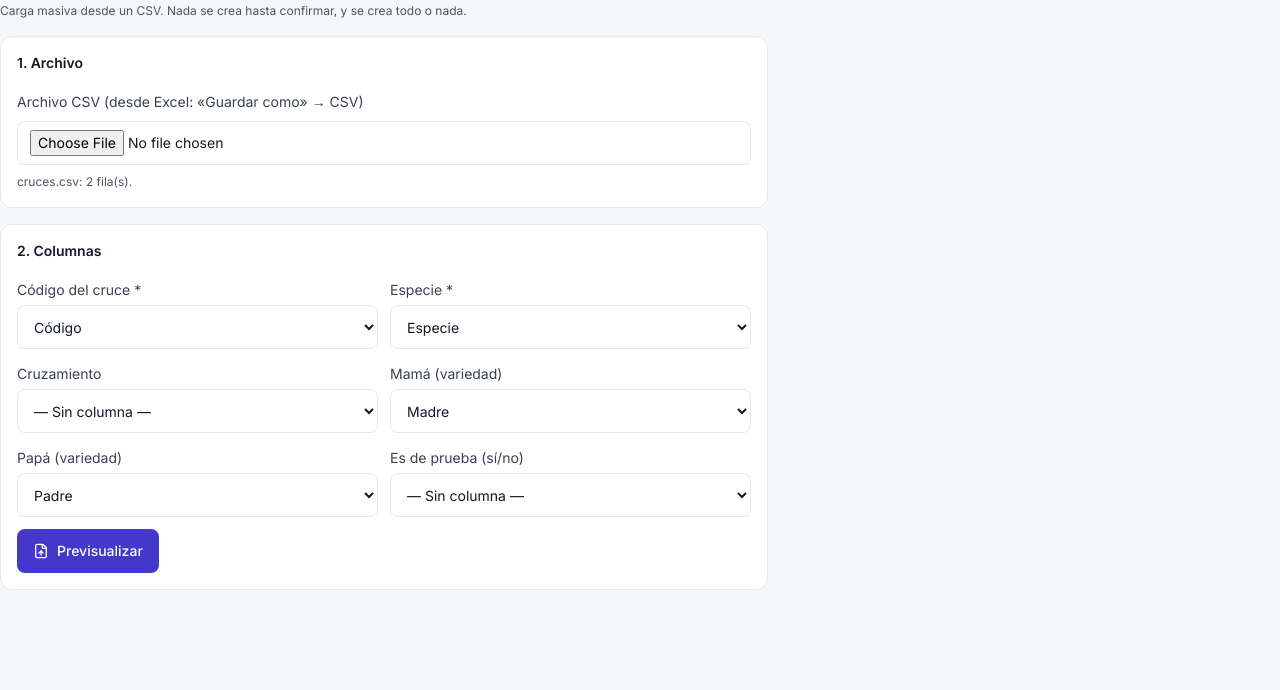
Test: ImportarCrucesPage › exige aceptar las variedades nuevas, confirma con clave de idempotencia y permite revertir
This screenshot has width=1280, height=690.
Earlier steps of the test are not shown.
Expected: the text "cruces.csv: 2 fila(s)." is shown, [17, 174, 132, 189]
Click the button "Previsualizar" at (88, 551), box [17, 529, 159, 573]
(page scrolled)
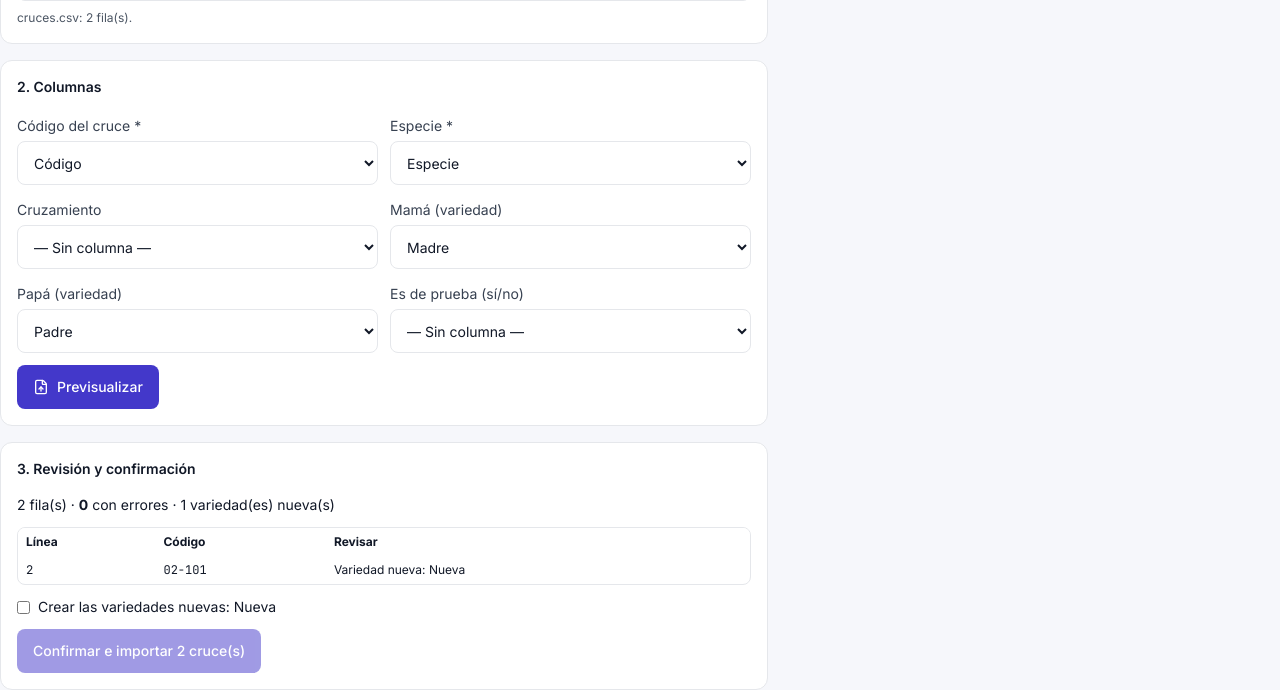
Result: the button "Confirmar e importar 2 cruce(s)" is disabled at [17, 629, 261, 673]
Click the checkbox labelled "Crear las variedades nuevas: Nueva" at (24, 608), box [17, 601, 30, 614]
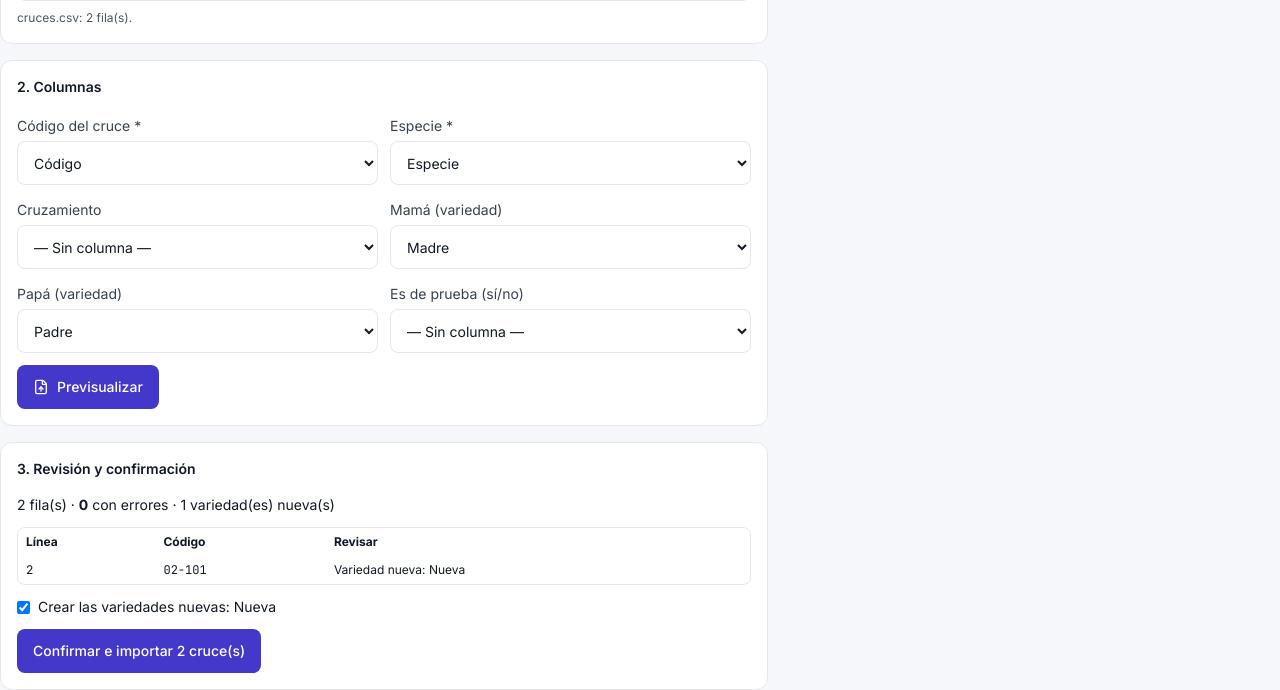
Result: the button "Confirmar e importar 2 cruce(s)" is enabled
Click the button "Confirmar e importar 2 cruce(s)" at (139, 651), box [17, 629, 261, 673]
(page scrolled)
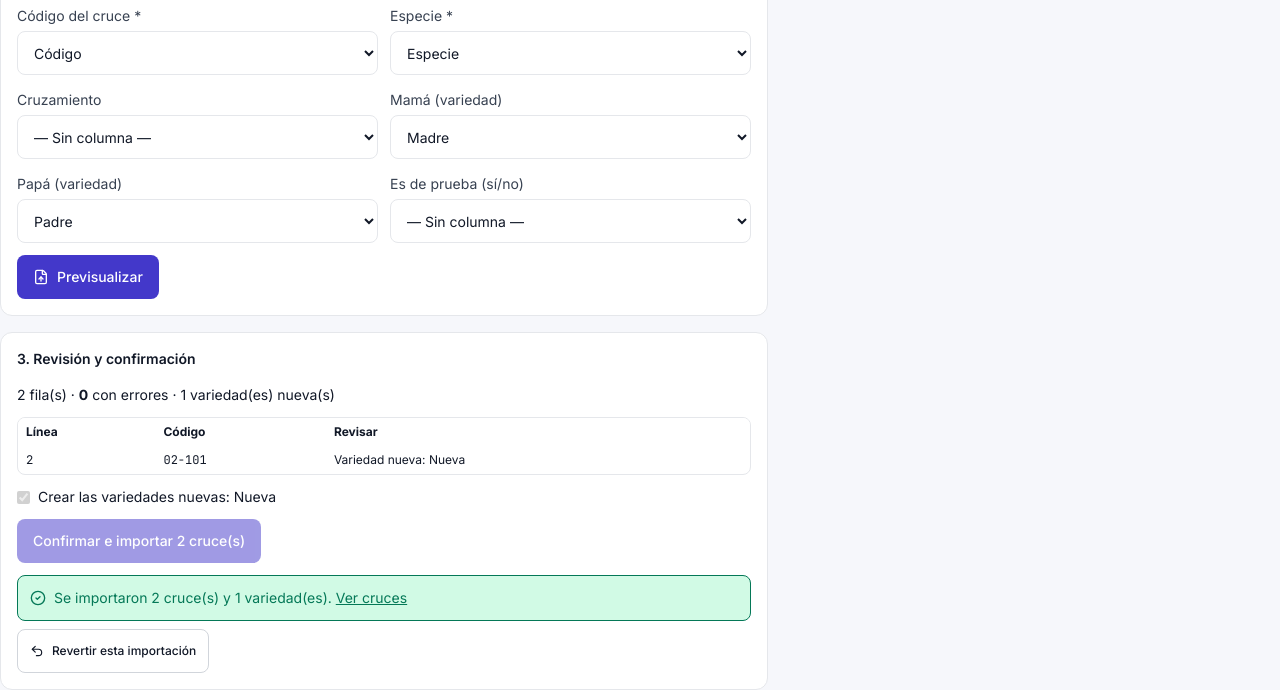
Result: the text "Variedad nueva: Nueva" is shown once at [326, 446, 750, 474]
Result: the text "Se importaron 2 cruce(s) y 1 variedad(es). Ver cruces" is shown at [54, 588, 407, 608]
Click the button "Revertir esta importación" at (113, 651), box [17, 629, 209, 673]
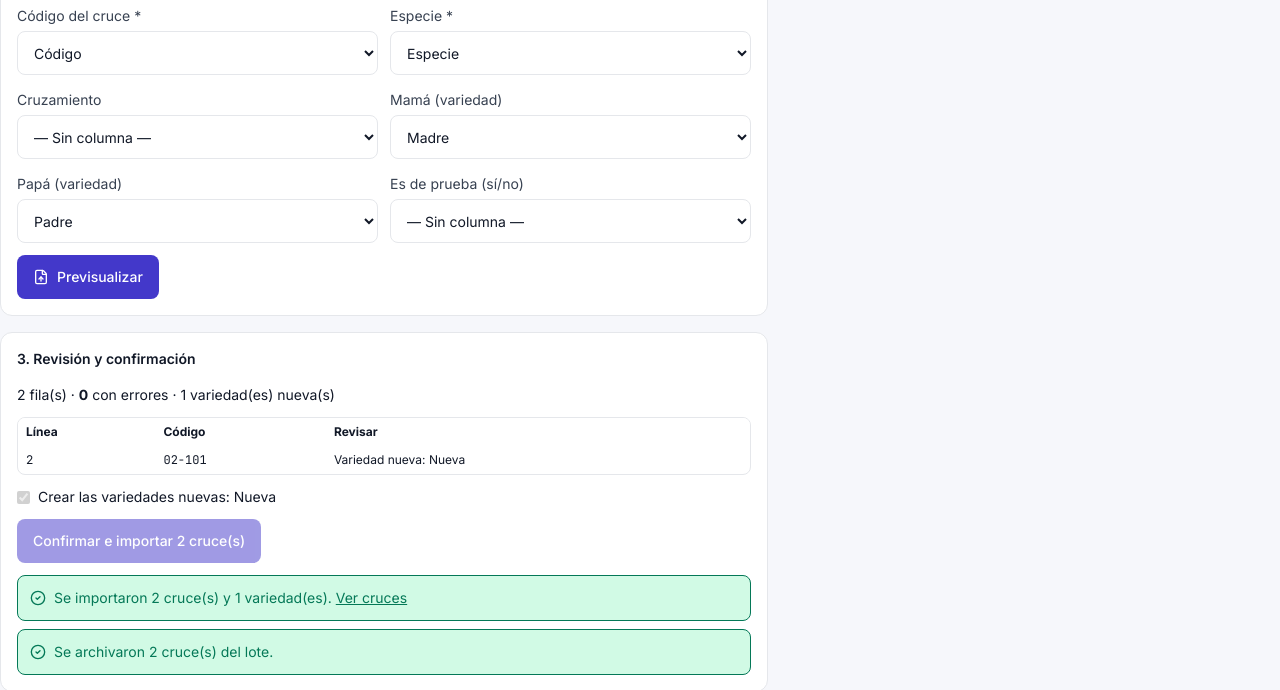
Result: the text "Se archivaron 2 cruce(s) del lote." is shown at [54, 642, 273, 662]
